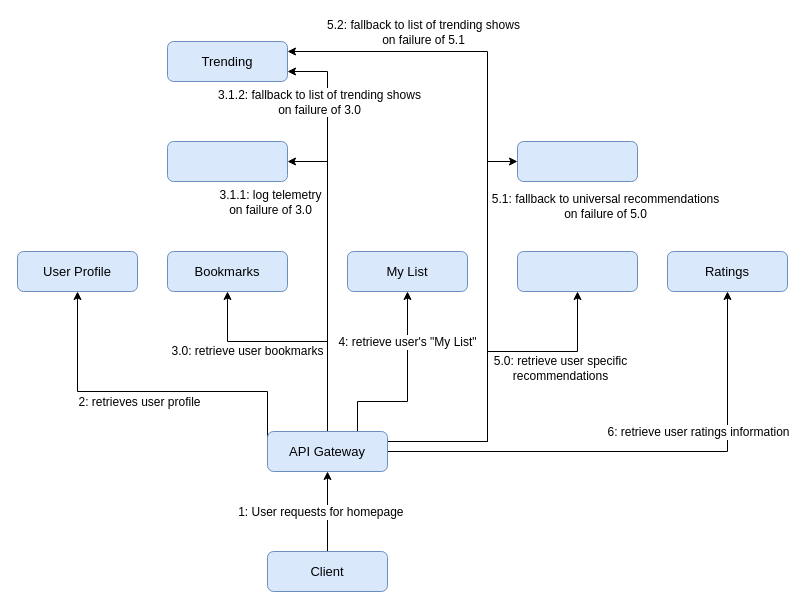
The diagram is 806 pixels wide and 609 high, and some of its shapes have lost their labels. The shapes that lost their labels are listed below. From the top down, each one's box as (x1, y1, x2, y2) in pixels, then its label:
(166, 140, 288, 182): Telemetry
(516, 140, 638, 182): Global Recommendations
(516, 250, 638, 292): User Recommendations
